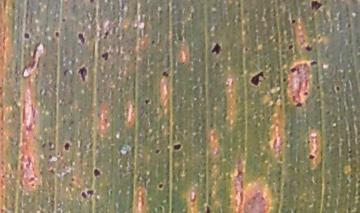tarspot: (246, 67, 267, 90), (209, 38, 225, 59), (74, 61, 90, 82), (96, 45, 113, 64), (307, 1, 325, 17), (18, 26, 33, 44), (88, 165, 104, 181), (140, 92, 154, 110), (75, 29, 89, 46), (304, 148, 318, 165), (168, 138, 186, 151), (75, 189, 89, 205), (58, 64, 72, 79), (99, 25, 112, 41), (299, 41, 316, 53), (306, 56, 320, 70), (59, 138, 72, 153), (82, 186, 98, 198), (158, 66, 170, 81), (239, 43, 254, 55), (49, 27, 62, 39), (287, 14, 301, 25), (331, 81, 342, 95), (154, 179, 166, 191), (151, 145, 162, 158), (293, 97, 304, 110), (201, 201, 212, 213), (341, 20, 352, 32), (285, 41, 295, 54), (57, 13, 68, 24), (311, 82, 322, 92), (147, 37, 158, 46), (87, 1, 96, 5)
